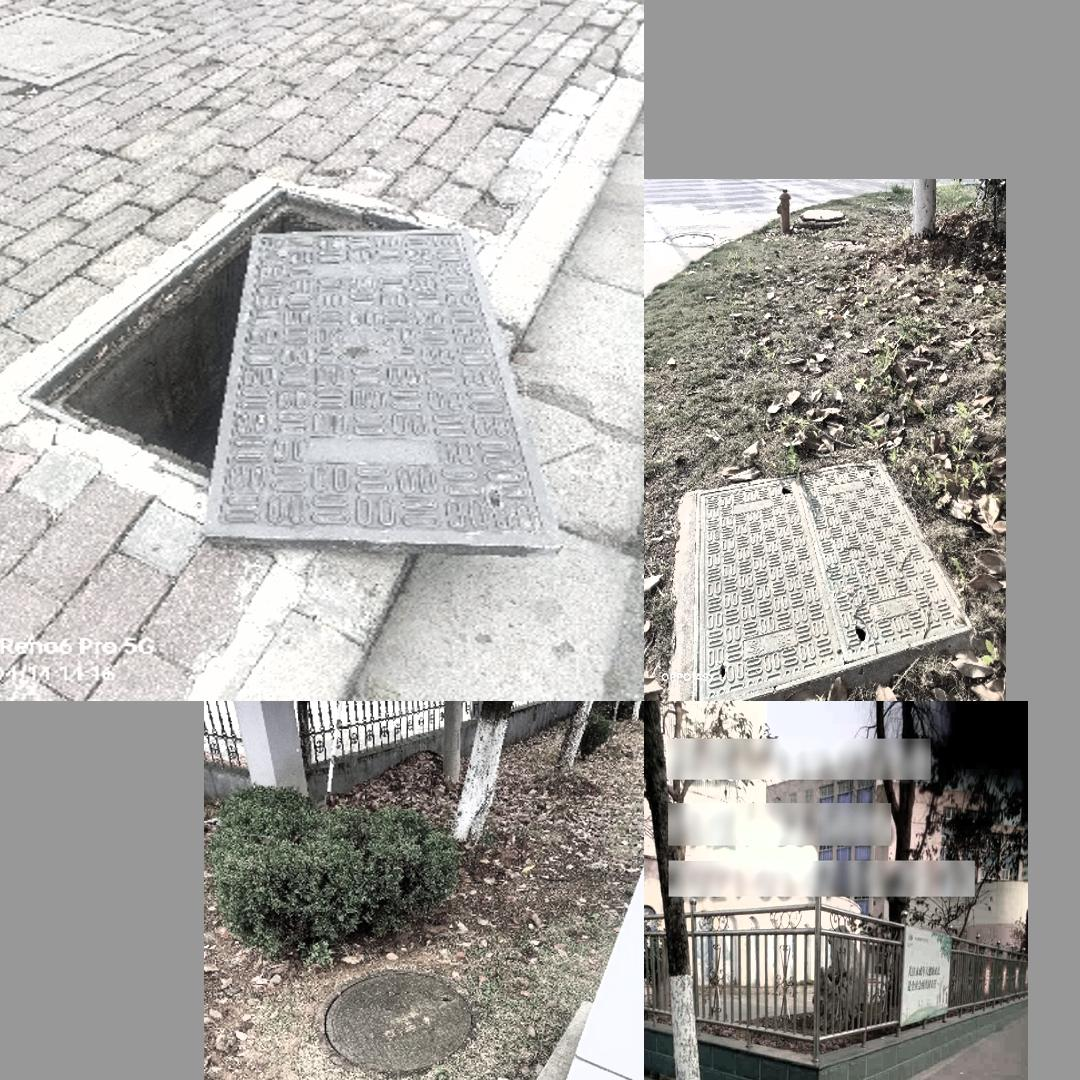good: (691, 456, 974, 701), (315, 966, 477, 1078), (0, 6, 168, 89)
uncovered: (0, 169, 558, 559)
